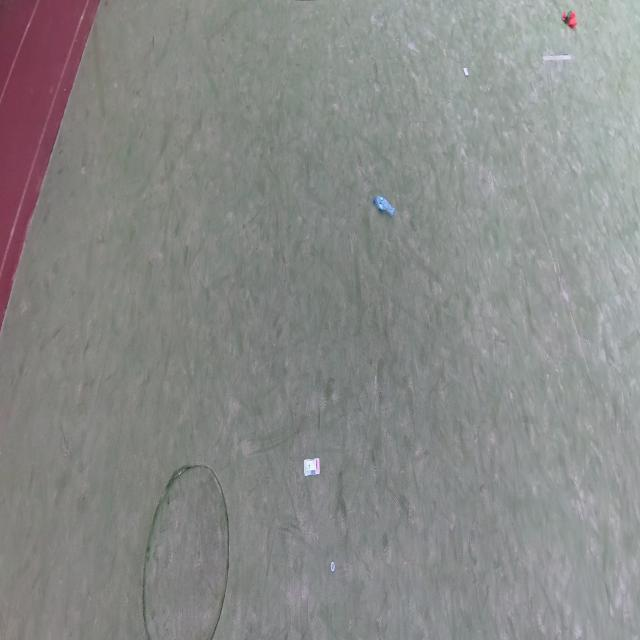rubbish: (372, 195, 395, 218), (303, 459, 320, 478), (561, 11, 577, 29), (463, 68, 469, 77), (330, 561, 334, 571)
